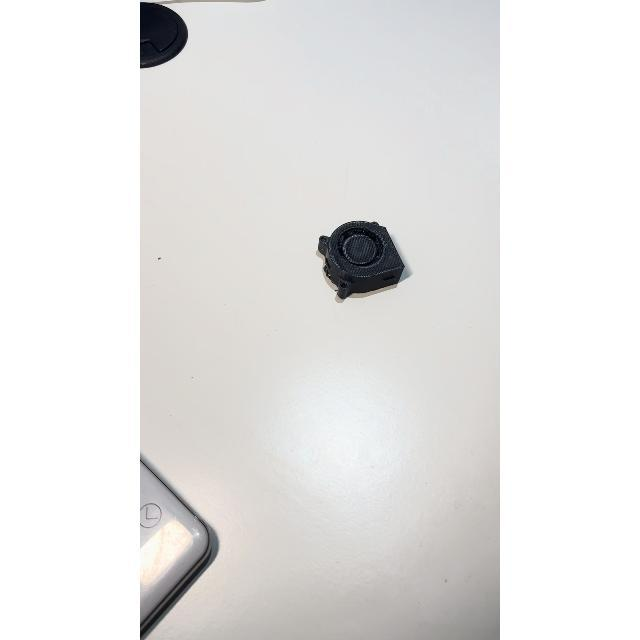Pieza3: (312, 214, 418, 312)
